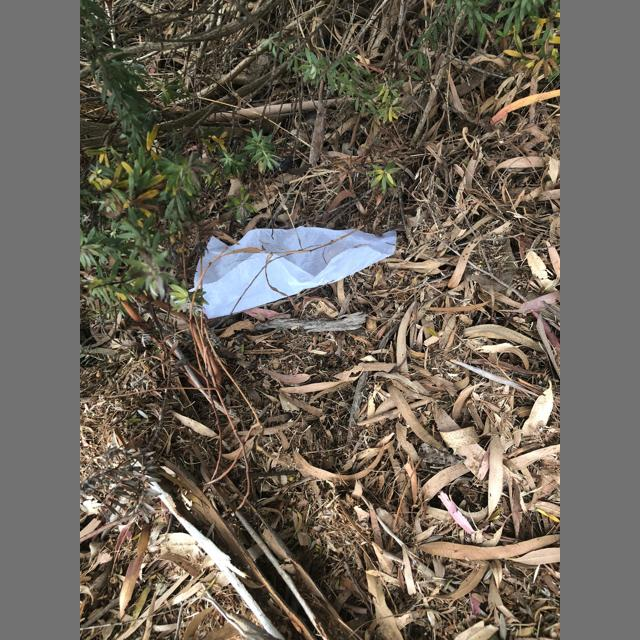litter: (189, 226, 397, 319)
